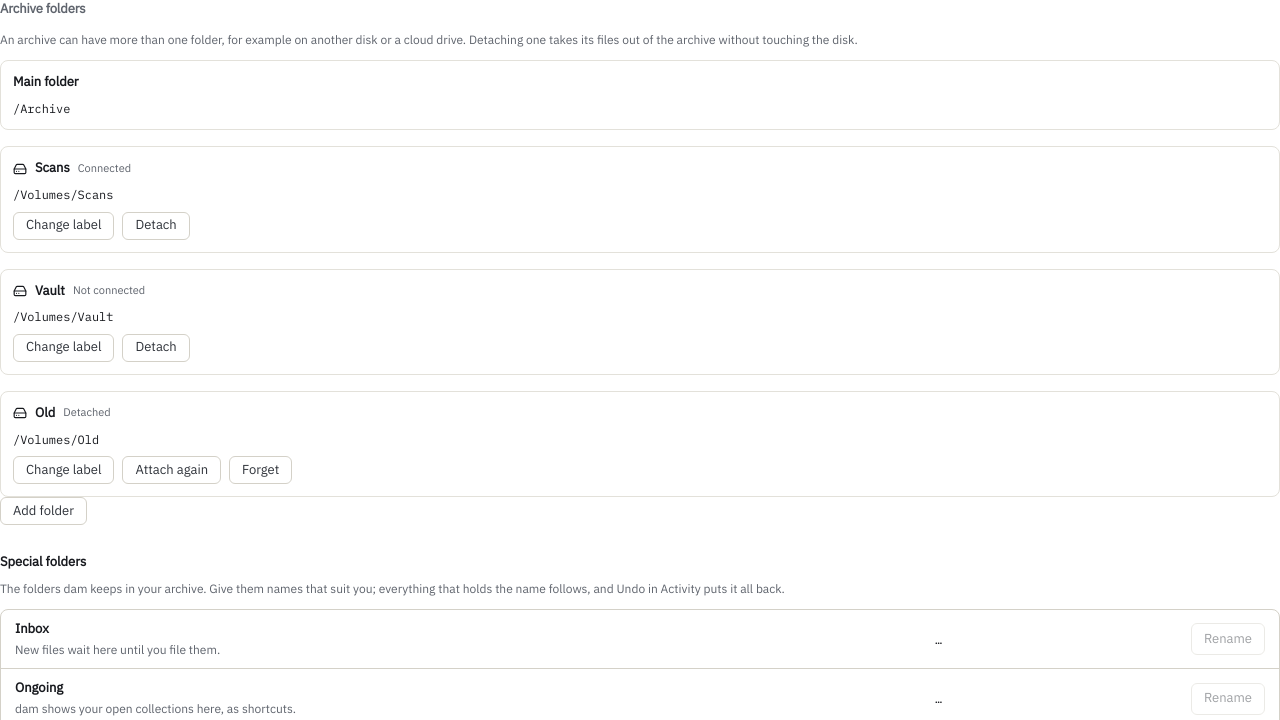
Test: Archive folders settings › Add folder checks first (dry run), says dam will index it, then adds it
Step 1. Click the button "Add folder" → (43, 511), box [0,497,87,525]
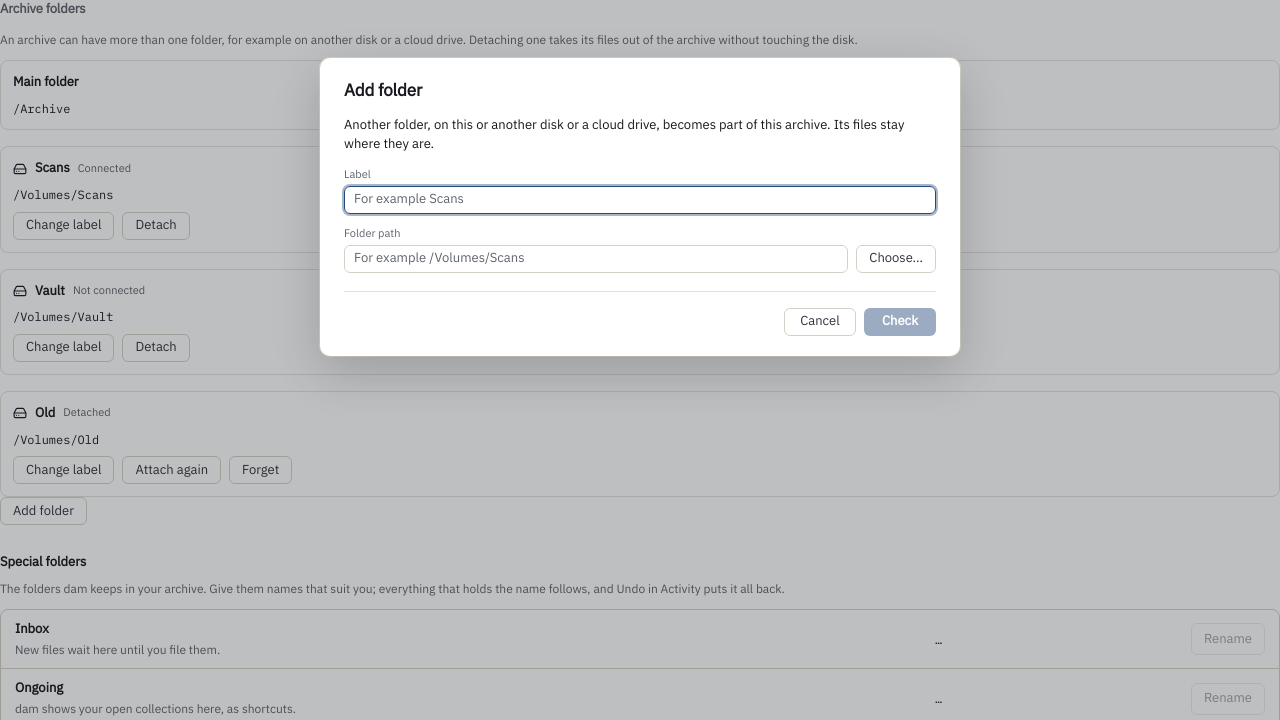
Step 2. Type "Taxes" into the field labelled "Label" → (640, 200), box [344,186,936,214]
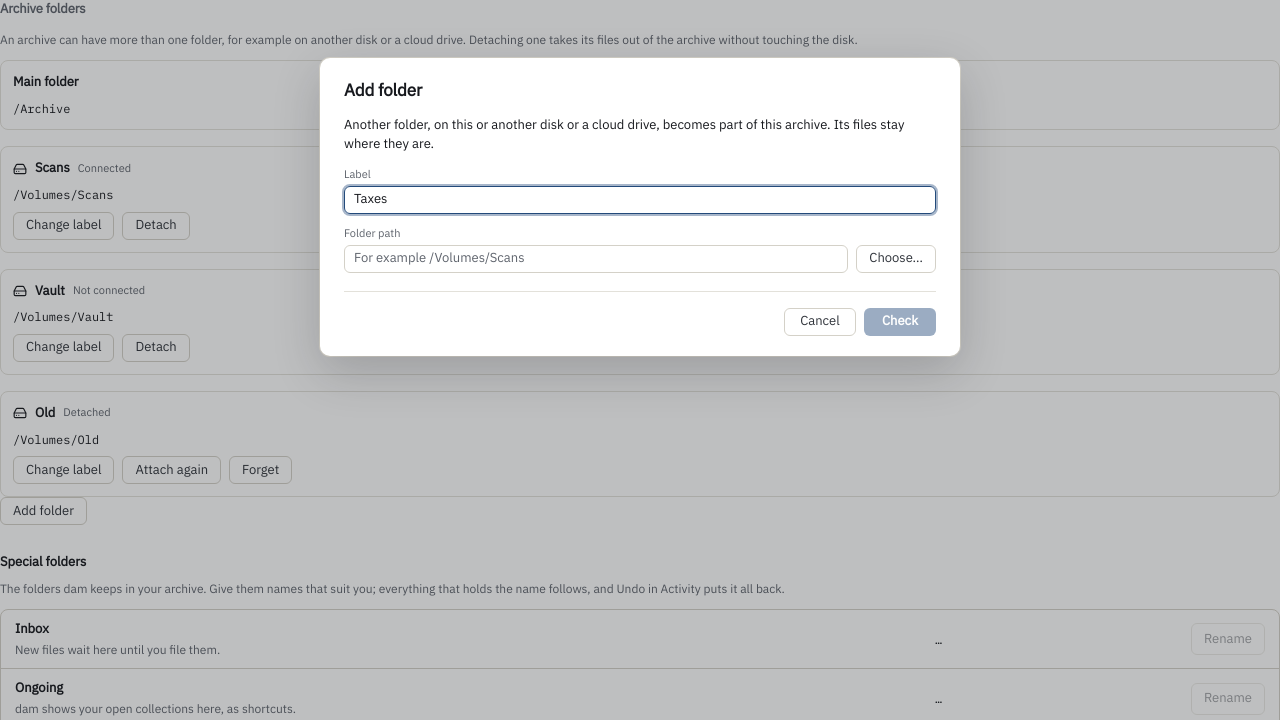
Step 3. Type "/Volumes/Taxes" into the field labelled "Folder path" → (596, 259), box [344,245,848,273]
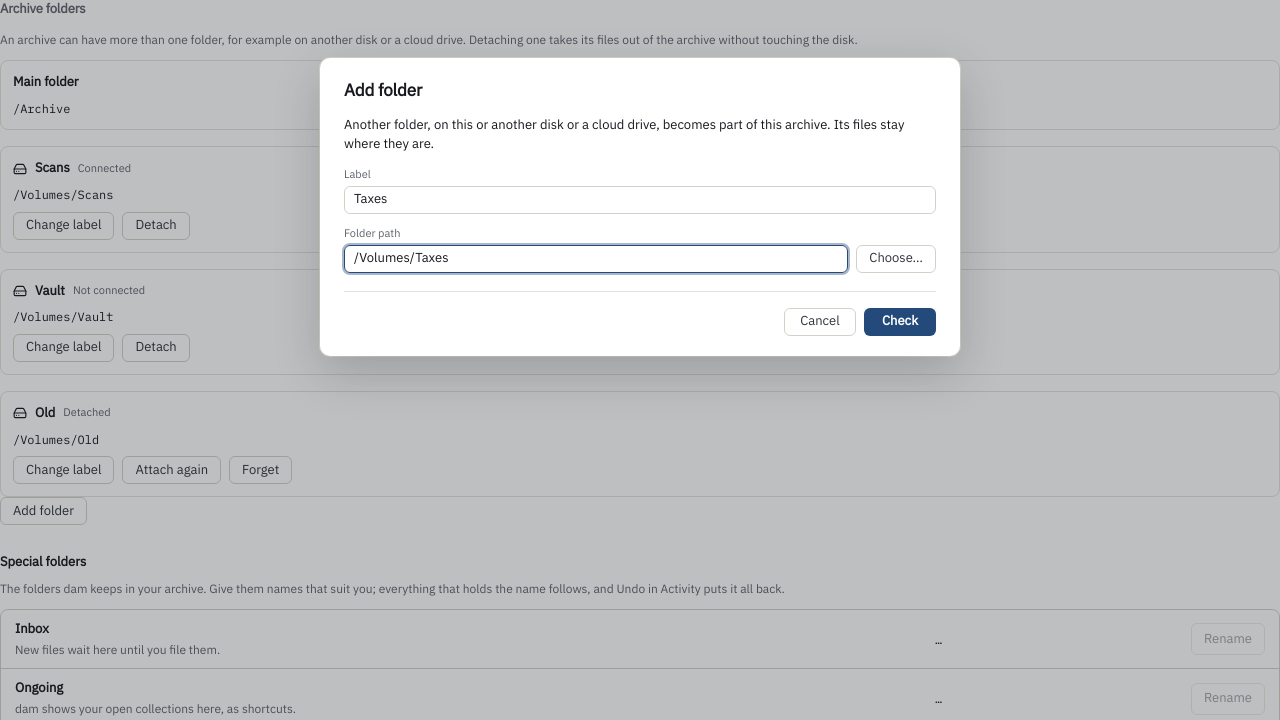
Step 4. Click the button "Check" → (900, 322), box [864,308,936,336]
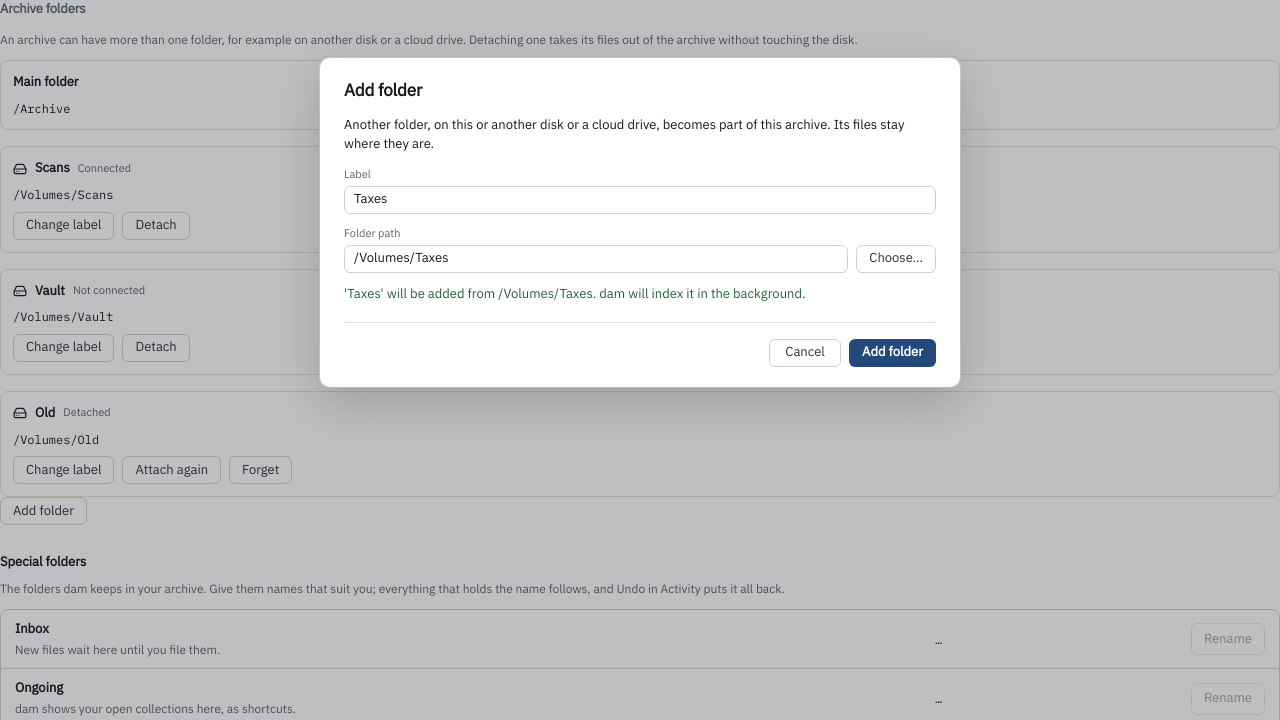
Expected: the text "dam will index it in the background." is shown, [344,285,806,302]
Step 5. Click the button "Add folder" → (893, 353), box [849,339,936,367]
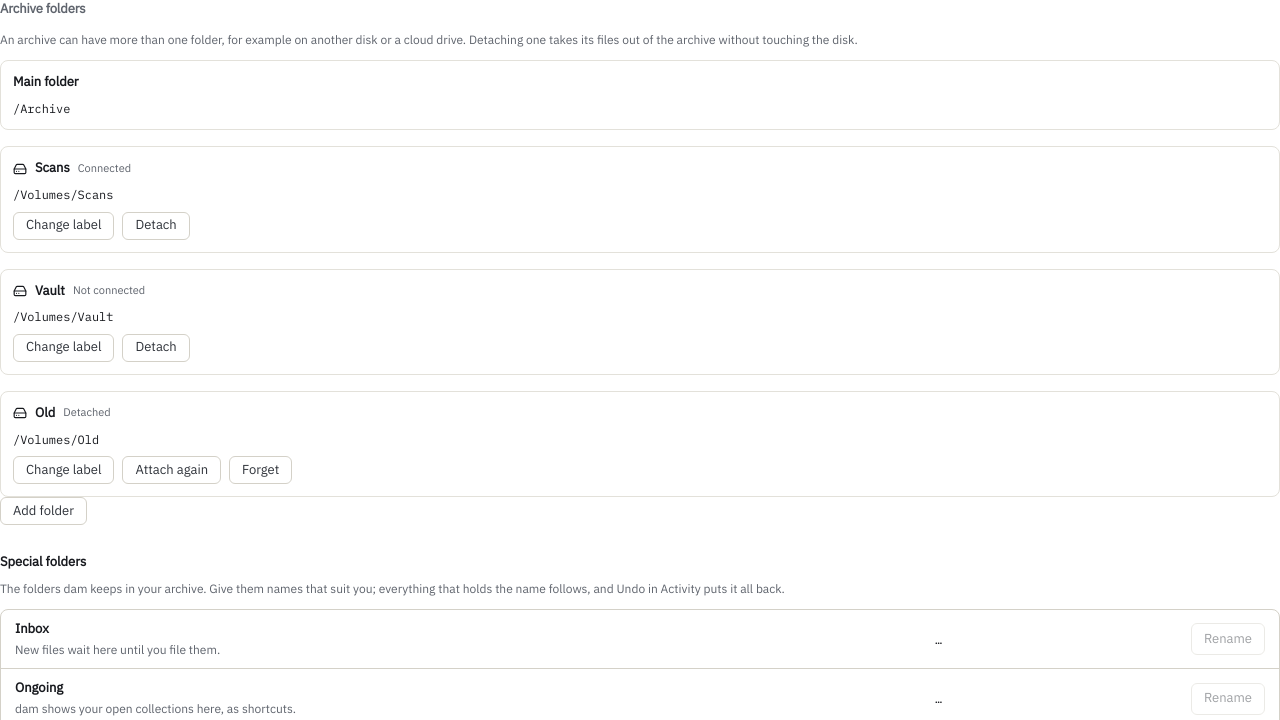
Expected: the dialog is gone
